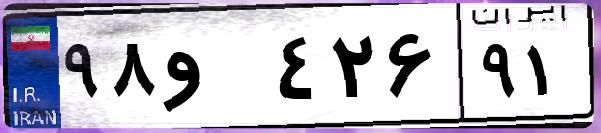1: (525, 38, 570, 115)
2: (330, 28, 385, 110)
4: (270, 28, 330, 110)
6: (385, 28, 445, 110)
8: (110, 28, 158, 98)
9: (57, 26, 110, 100), (475, 38, 525, 113)
و: (158, 20, 270, 120)
